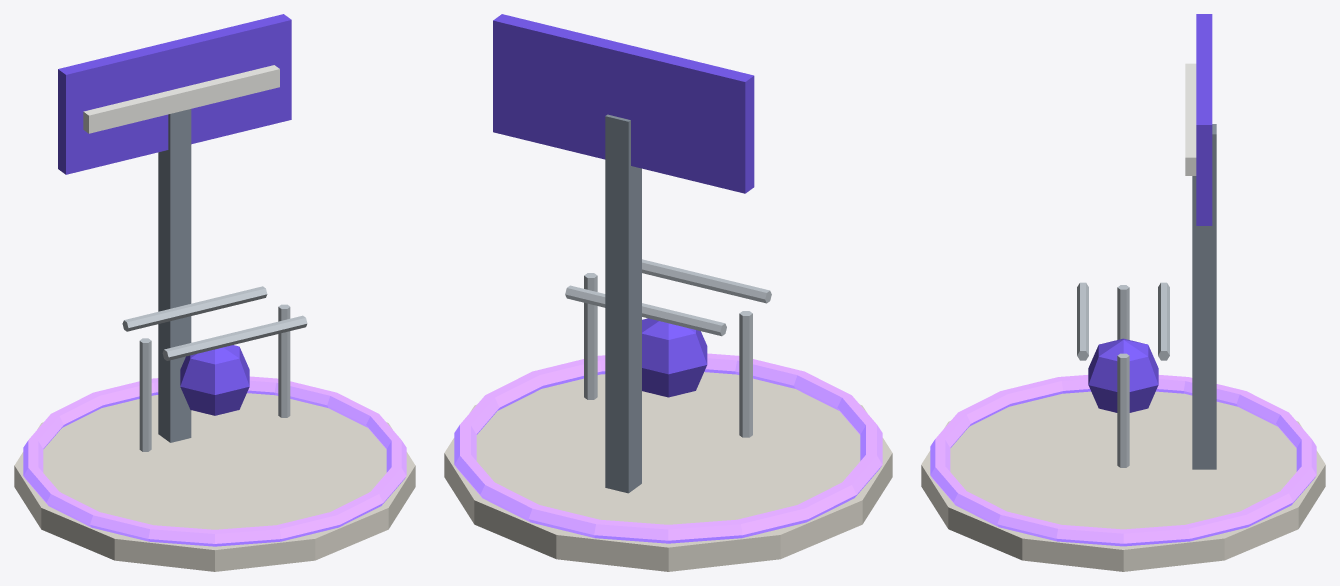
File: pickup-basket.glb
3 renders of one model, left to right at view 1: azimuth 30°, elevation 25°; view 2: azimuth 150°, elevation 25°; view 3: azimuth 270°, elevation 25°, orthographic. The views are drawn at different scales.
Visible parts, largest first — view 1: pickup-basket; view 2: pickup-basket; view 3: pickup-basket.
Boxes of the visible parts, x1,y1,x2,y2 form: pickup-basket: (14, 14, 415, 571); pickup-basket: (444, 14, 892, 571); pickup-basket: (921, 14, 1325, 571).
Bounding box in the file's own units: 2 × 2.28 × 2.
